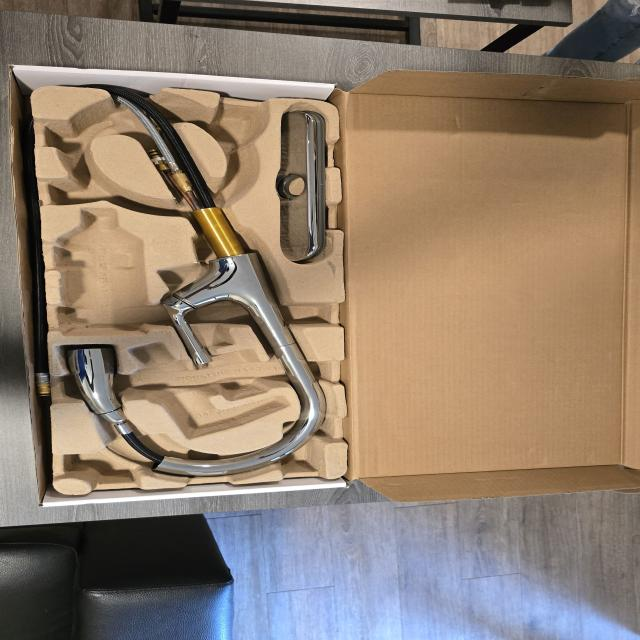1: (70, 86, 327, 477)
2m: (133, 343, 286, 435)
3m: (58, 209, 143, 334)
4: (277, 110, 327, 264)
5m: (207, 107, 260, 145)
6m: (42, 110, 115, 152)
7m: (50, 172, 124, 203)
